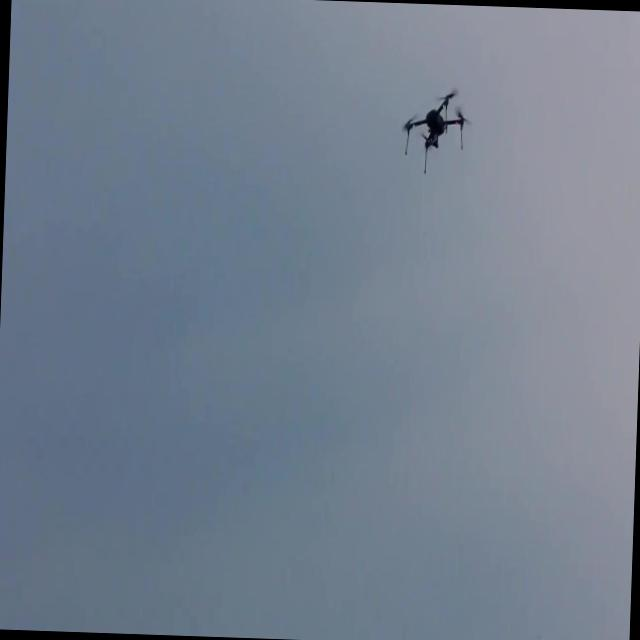drone: (402, 88, 472, 178)
